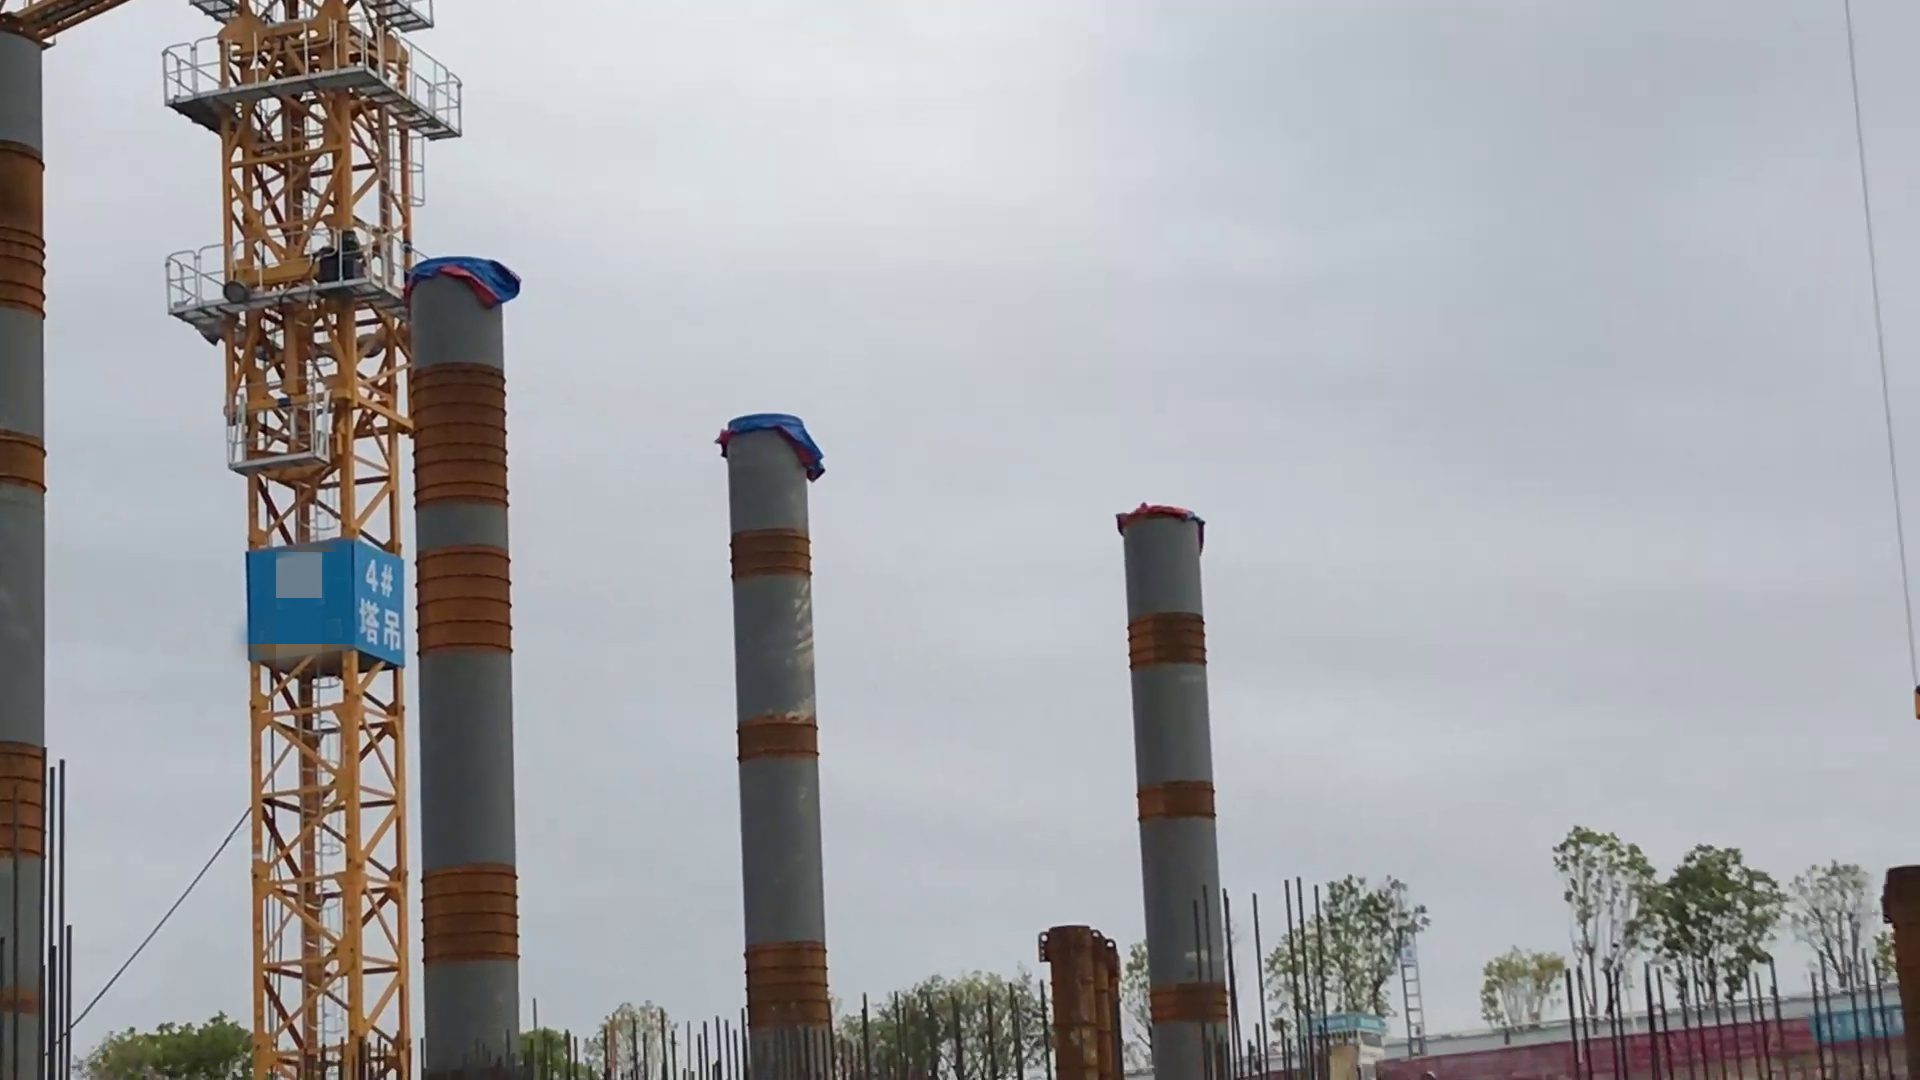fence: (1375, 1004, 1911, 1073)
